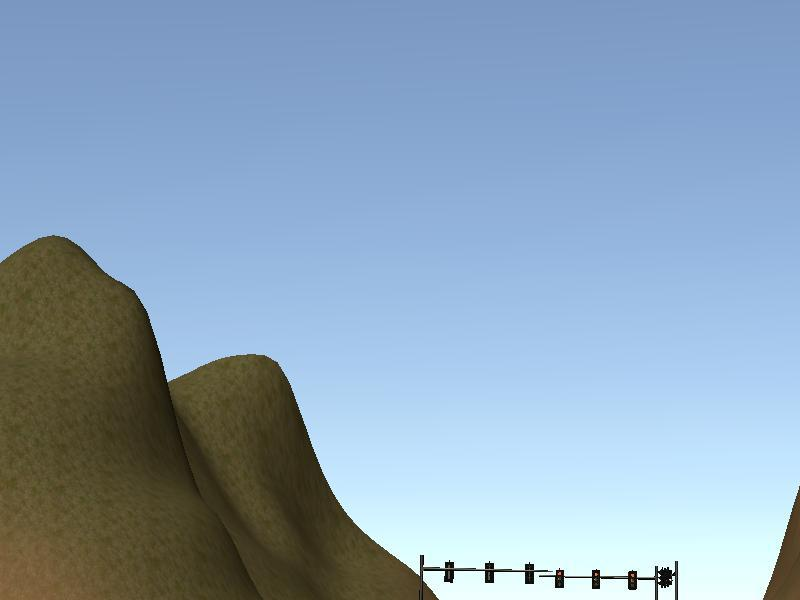Red: (628, 570, 637, 591), (591, 569, 600, 589), (555, 569, 563, 589)
